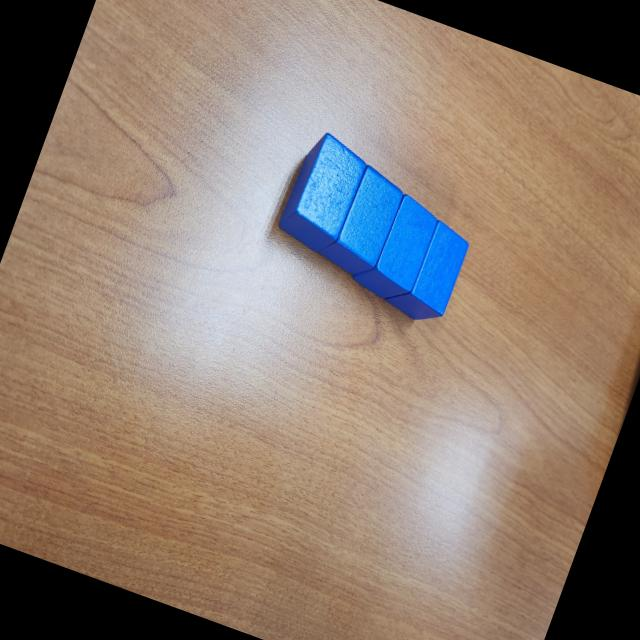blue: (273, 128, 374, 258), (313, 156, 411, 284), (348, 186, 444, 309), (382, 212, 474, 329)
